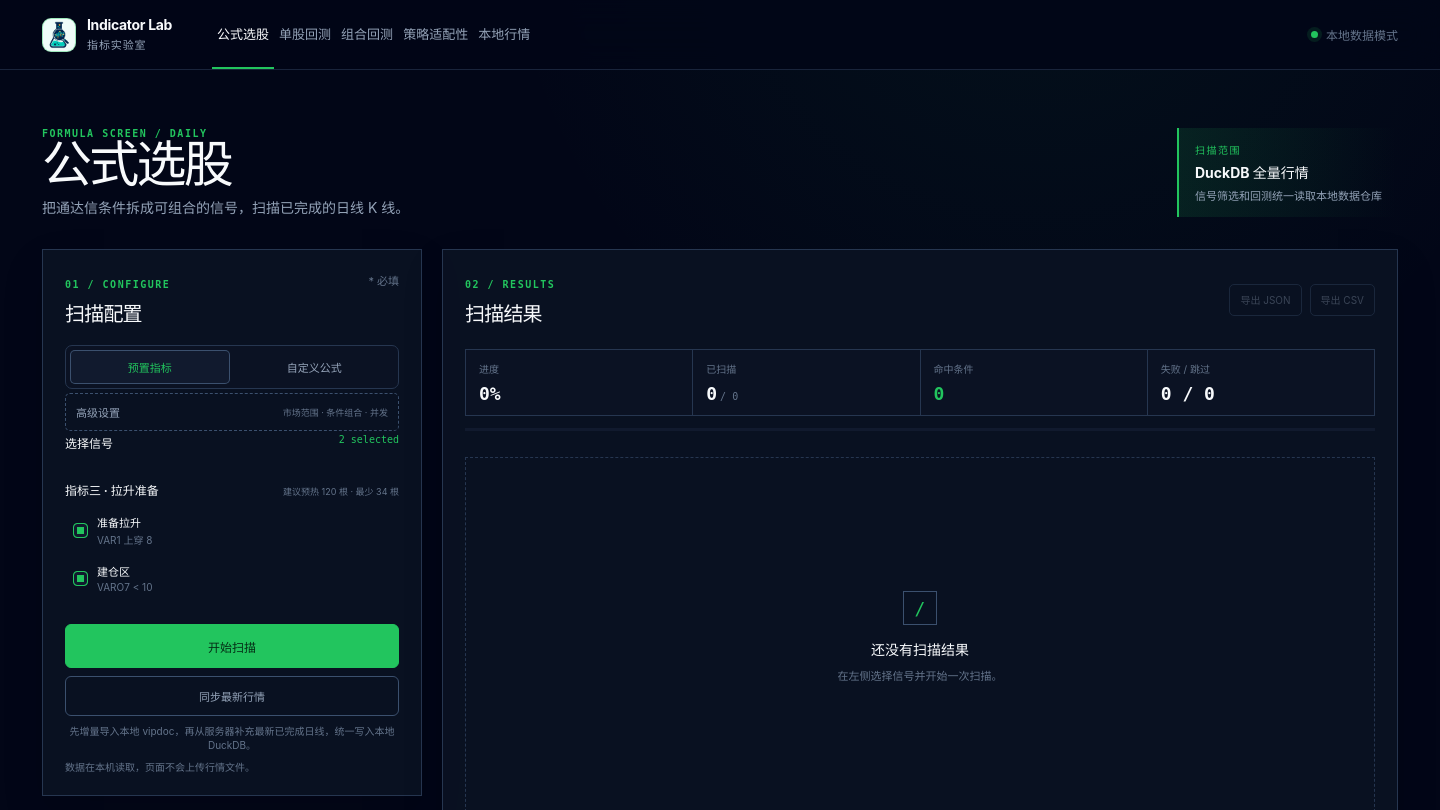
Test case: FormulaScreenPage › renders signal choices and validates an empty selection
Click the checkbox labelled "准备拉升 VAR1 上穿 8": (113, 531) [73, 516, 152, 546]
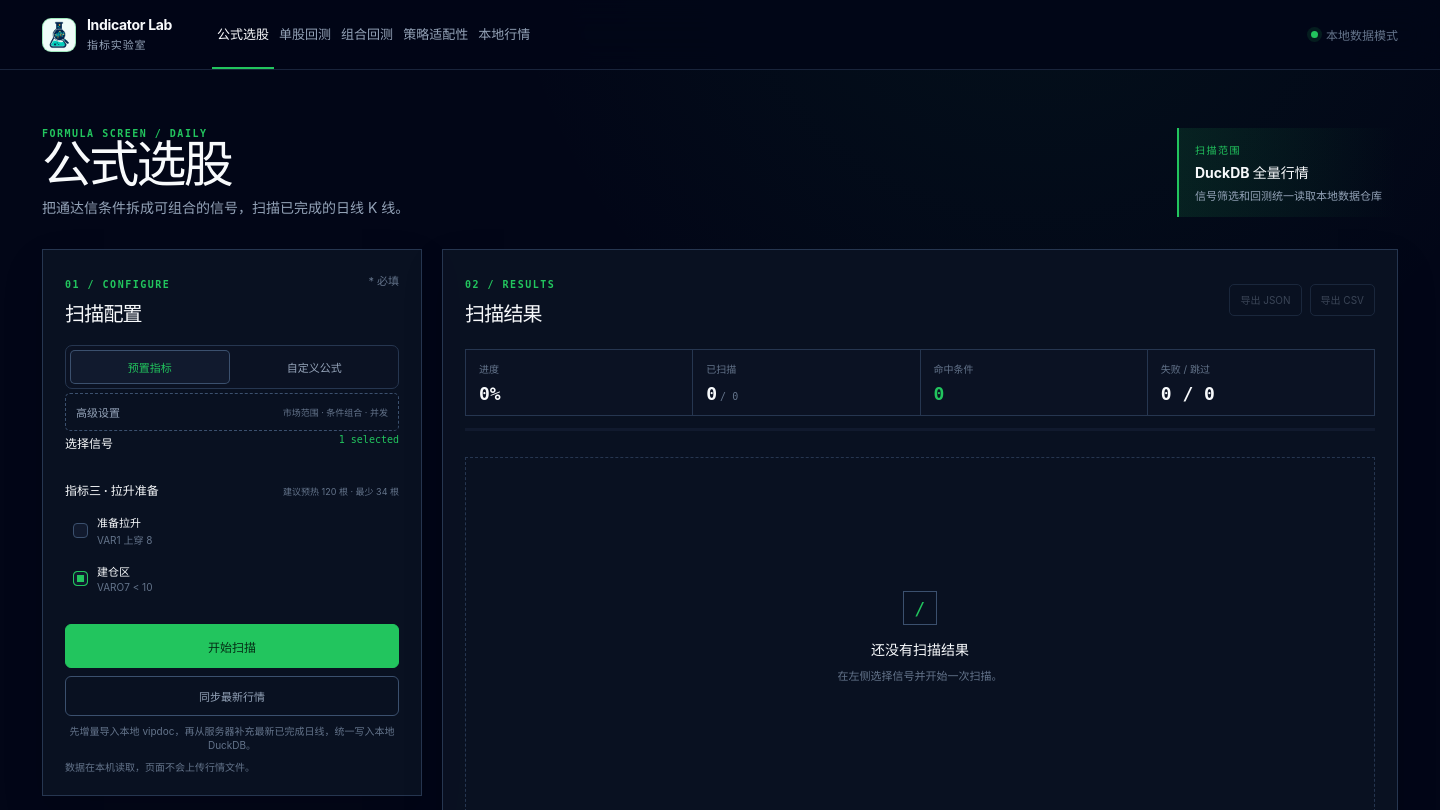
Click the checkbox labelled "建仓区 VARO7 < 10": (113, 579) [73, 565, 152, 593]
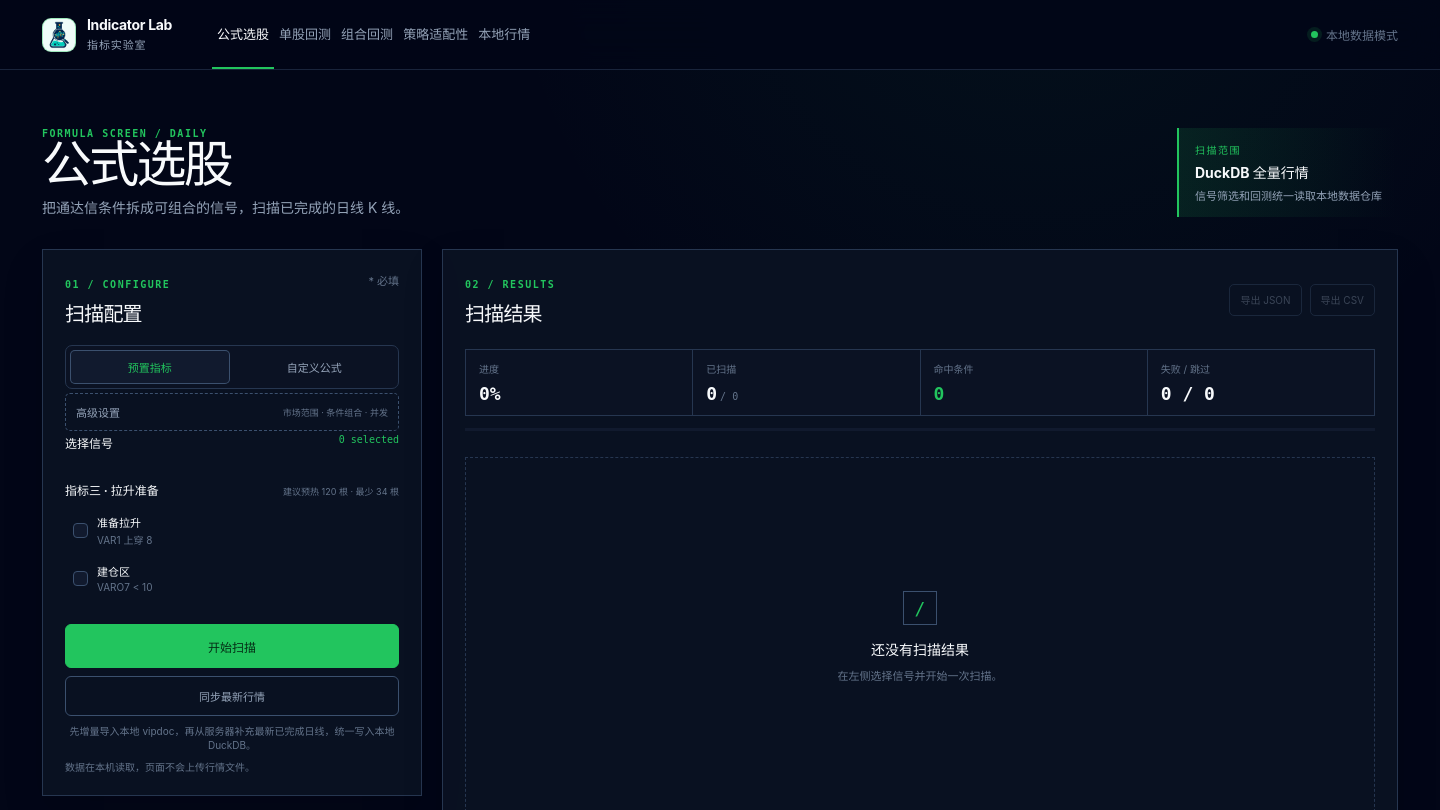
Submit the form with test id "screen-config", box [42, 249, 422, 796]
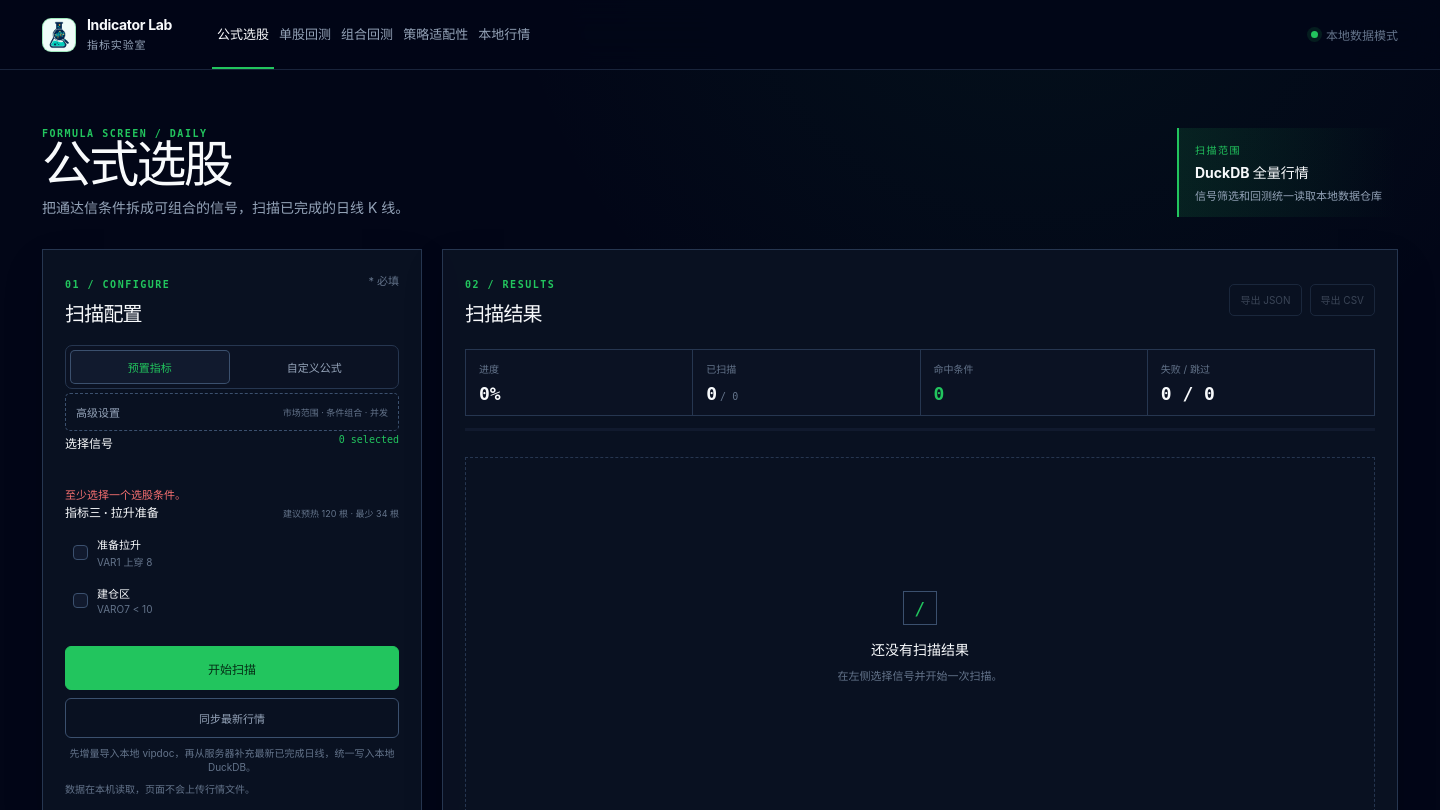
expect the text with test id "signals-error" shows "至少选择": met, box [65, 488, 186, 502]
